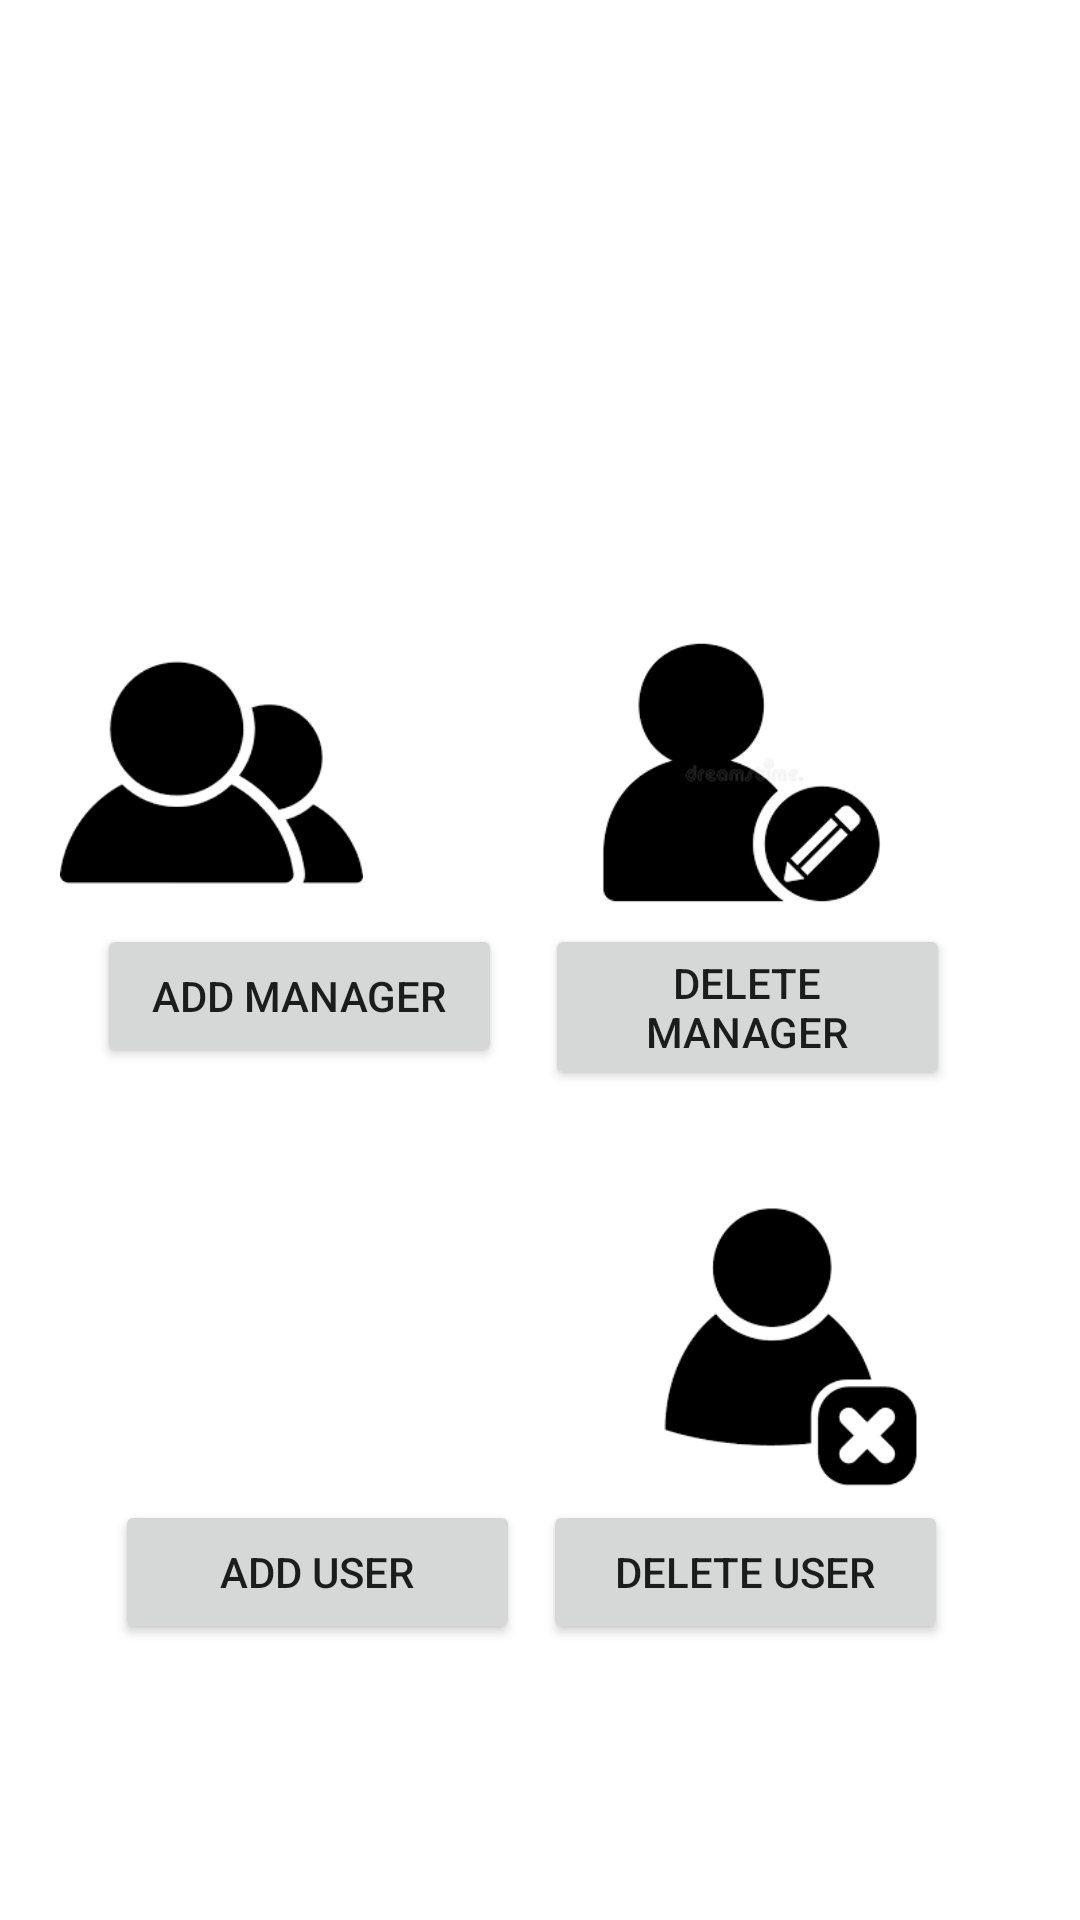

Where to tap for icons on this 1080x1920 app screen, as (x=x, y=y):
edit user: (x=741, y=772)
users: (x=211, y=772)
